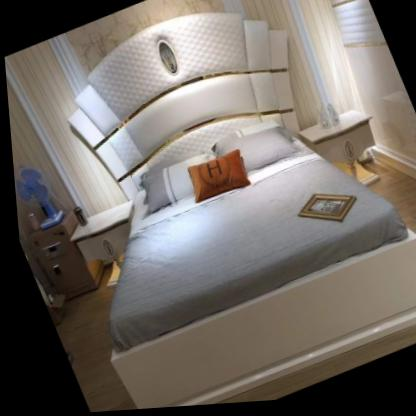Closet: (328, 0, 416, 188)
